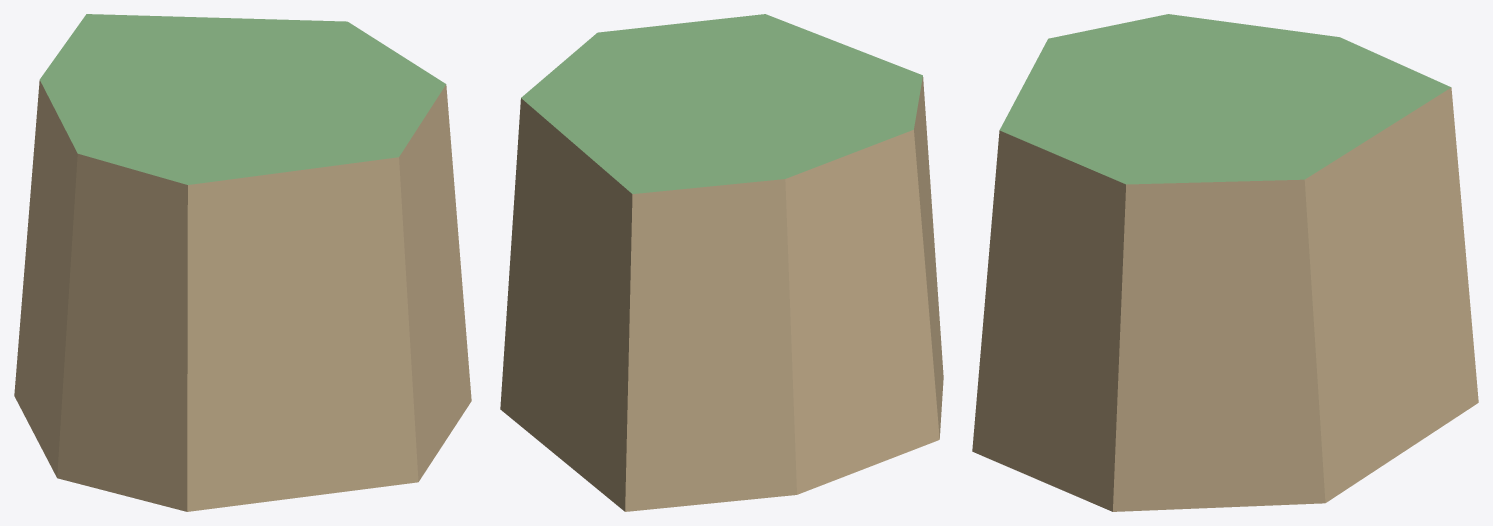
The model's file is LandPrefab.001.fbx.
3 renders of one model, left to right at view 1: azimuth 30°, elevation 25°; view 2: azimuth 150°, elevation 25°; view 3: azimuth 270°, elevation 25°, orthographic. The views are drawn at different scales.
Parts seen in each view (by area): view 1: LandPrefab.001; view 2: LandPrefab.001; view 3: LandPrefab.001.
Part boxes in pixels (<box>): LandPrefab.001: <box>14,14,471,511</box>; LandPrefab.001: <box>500,14,943,511</box>; LandPrefab.001: <box>972,14,1478,511</box>.
Size of the model in its own units: 397 by 308 by 444.
